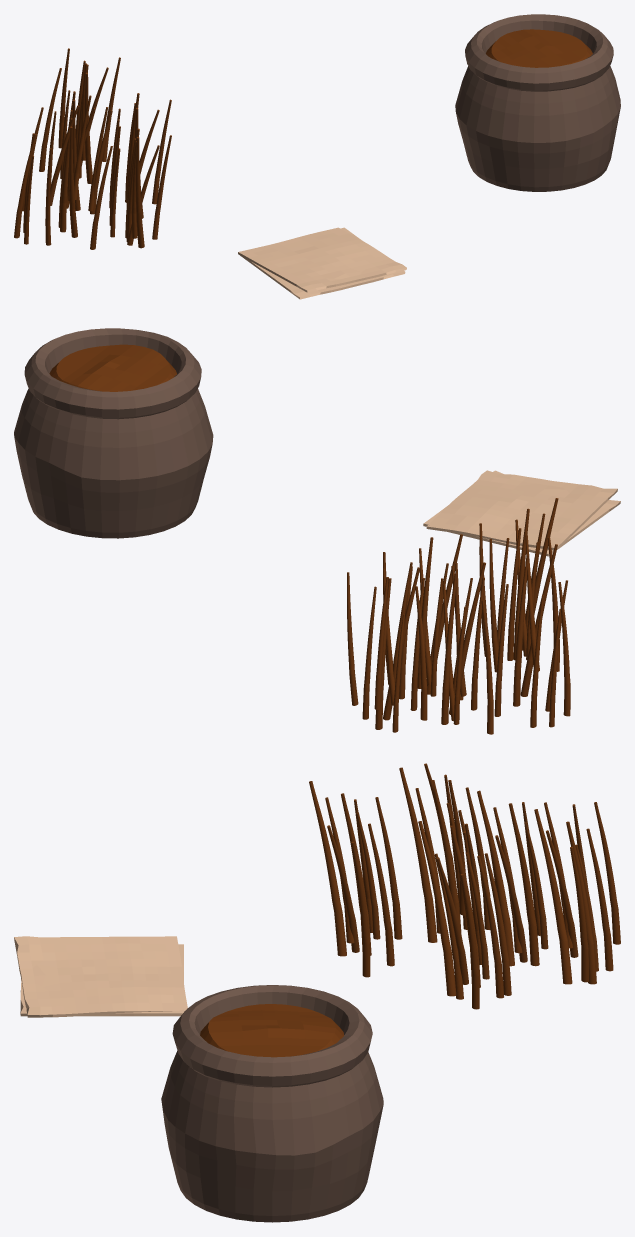
File: Linho.fbx
3 views of the same model, one above another, from view 1: azimuth 30°, elevation 25°; view 2: azimuth 150°, elevation 25°; view 3: azimuth 270°, elevation 25° (orthographic). The views are drawn at different scales.
Parts seen in each view (by area): view 1: Cylinder.044, Plane.001, Plane, Cylinder, Cylinder.009, Cylinder.013, Cylinder.017, Cylinder.026, Cylinder.008, Cylinder.018, Cylinder.007, Cylinder.034 (+6 smaller); view 2: Cylinder.044, Plane.001, Cylinder.039, Cylinder.013, Plane, Cylinder.026, Cylinder.017, Cylinder.041, Cylinder.009, Cylinder.024, Cylinder.020, Cylinder.015 (+16 smaller); view 3: Cylinder.044, Plane.001, Cylinder.018, Cylinder.027, Cylinder, Cylinder.009, Cylinder.036, Cylinder.039, Cylinder.006, Cylinder.033, Cylinder.020, Cylinder.024 (+19 smaller).
Part boxes in pixels (x1,y1,x2,y2): Cylinder.044: (455,14,620,191); Plane.001: (238,227,406,292); Plane: (240,227,405,299); Cylinder: (135,137,144,248); Cylinder.009: (69,126,77,237); Cylinder.013: (60,118,72,232); Cylinder.017: (14,134,36,238); Cylinder.026: (39,68,61,171); Cylinder.008: (90,146,112,249); Cylinder.018: (84,72,92,183); Cylinder.007: (152,135,171,239); Cylinder.034: (152,99,171,204); Cylinder.044: (14,328,213,538); Plane.001: (426,470,617,550); Cylinder.039: (441,573,457,724); Cylinder.013: (513,555,529,706); Plane: (423,470,620,556); Cylinder.026: (415,586,427,720); Cylinder.017: (558,582,570,716); Cylinder.041: (481,600,493,734); Cylinder.009: (520,544,557,696); Cylinder.024: (362,586,376,719); Cylinder.020: (374,577,388,709); Cylinder.015: (494,584,508,716); Cylinder.044: (161,985,383,1222); Plane.001: (14,936,187,1017); Cylinder.018: (534,809,572,984); Cylinder.027: (418,821,456,996); Cylinder: (309,781,346,956); Cylinder.009: (399,767,437,942); Cylinder.036: (477,790,514,966); Cylinder.039: (508,803,539,966); Cylinder.006: (368,823,394,966); Cylinder.033: (477,855,503,998); Cylinder.020: (594,802,620,944); Cylinder.024: (586,828,613,971).
Size of the model in its own units: 1005 by 269 by 744.
